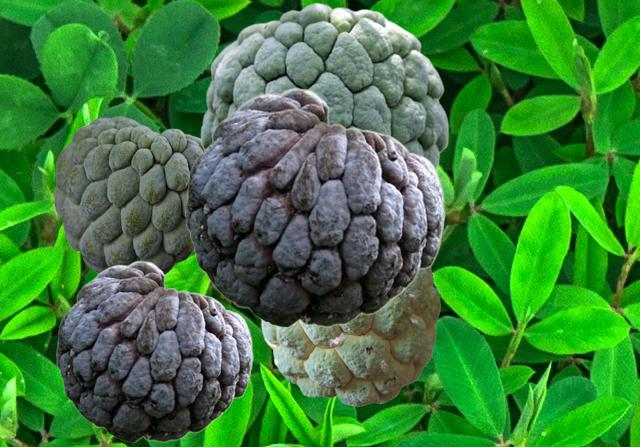atis: (185, 87, 444, 326), (200, 2, 448, 171), (56, 260, 252, 441), (261, 268, 439, 405), (54, 116, 202, 274)
